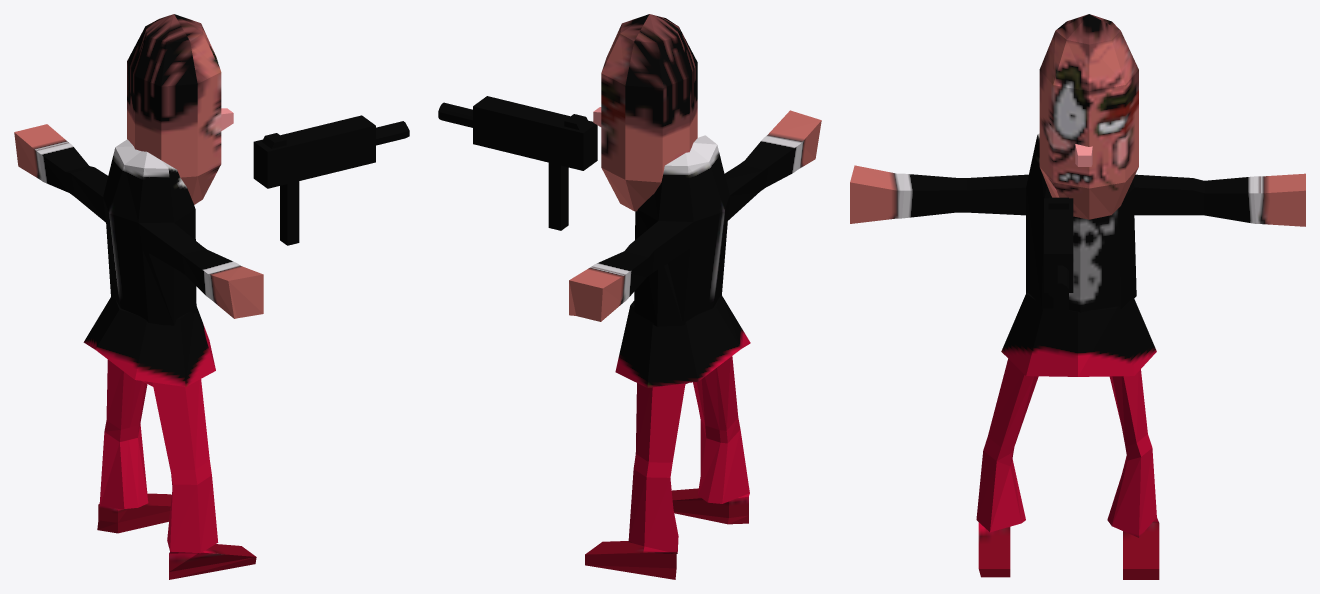
Rendered from BadF1.glb.
The picture shows the model from 3 angles, left to right: view 1: azimuth 30°, elevation 25°; view 2: azimuth 150°, elevation 25°; view 3: azimuth 270°, elevation 25°; orthographic projection. The views are drawn at different scales.
Visible parts, largest first — view 1: BadF1; view 2: BadF1; view 3: BadF1.
Part boxes in pixels (box(x1,y1,x2,y2)): BadF1: box(14, 14, 409, 579); BadF1: box(438, 14, 821, 579); BadF1: box(850, 14, 1305, 579).
Bounding box in the file's own units: 49.68 × 82.51 × 61.92.
1 material, 1 textured.
